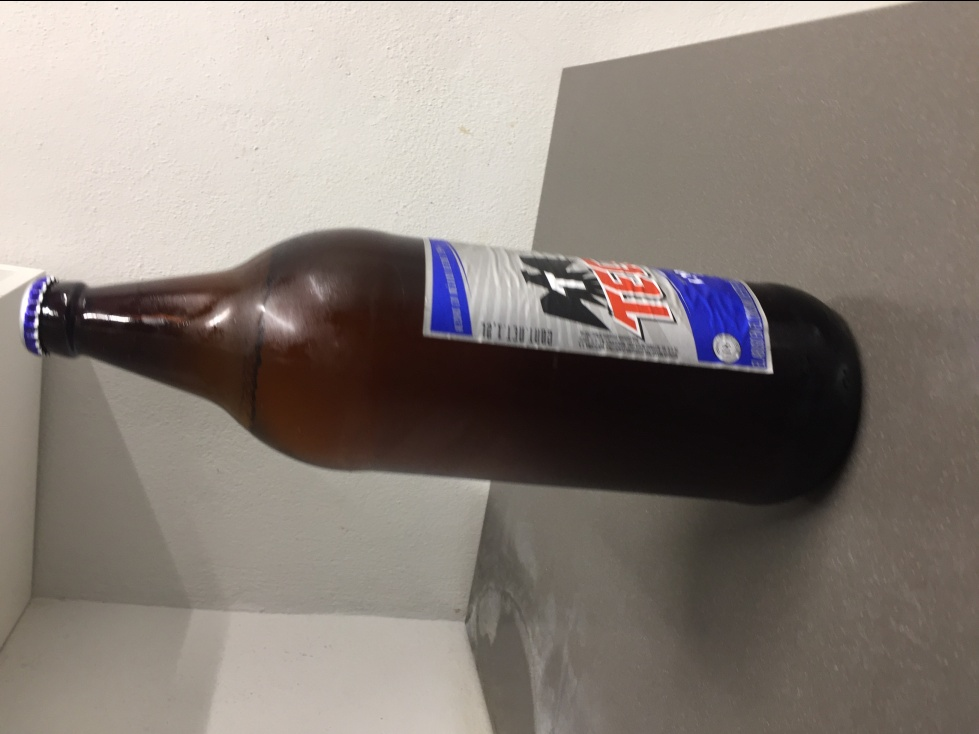tecateC: (26, 226, 867, 513)
